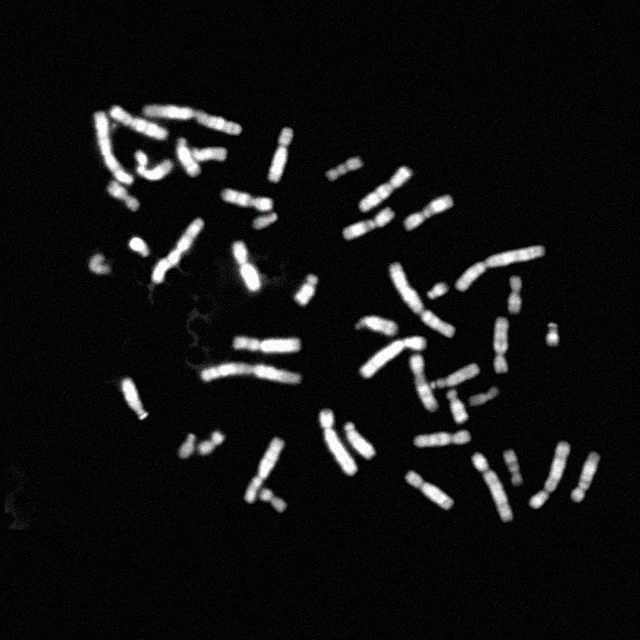chromosome: (389, 262, 455, 338), (457, 246, 545, 294), (152, 218, 204, 284), (94, 112, 134, 184), (360, 336, 426, 379), (473, 452, 513, 522), (142, 106, 240, 134), (530, 441, 570, 509), (320, 408, 358, 476), (358, 165, 412, 212), (246, 437, 284, 503), (200, 361, 302, 385), (109, 105, 167, 142), (406, 471, 454, 509), (410, 354, 440, 412), (342, 208, 394, 240), (405, 196, 453, 230), (232, 242, 262, 290), (572, 452, 600, 502), (268, 126, 292, 182), (233, 336, 301, 354), (436, 364, 479, 392), (222, 187, 272, 211), (122, 376, 148, 419), (106, 180, 140, 212), (136, 151, 172, 181), (346, 422, 374, 460), (327, 158, 365, 184), (414, 430, 468, 448), (177, 138, 199, 178), (354, 316, 396, 336), (494, 318, 508, 372), (447, 388, 468, 424), (295, 274, 317, 306), (504, 450, 524, 484), (199, 430, 225, 456), (260, 489, 288, 511), (506, 275, 522, 313), (252, 212, 278, 234), (470, 388, 500, 407), (190, 148, 228, 162), (88, 253, 112, 275), (178, 433, 196, 459), (130, 238, 150, 256), (428, 282, 448, 300), (546, 324, 558, 346)
